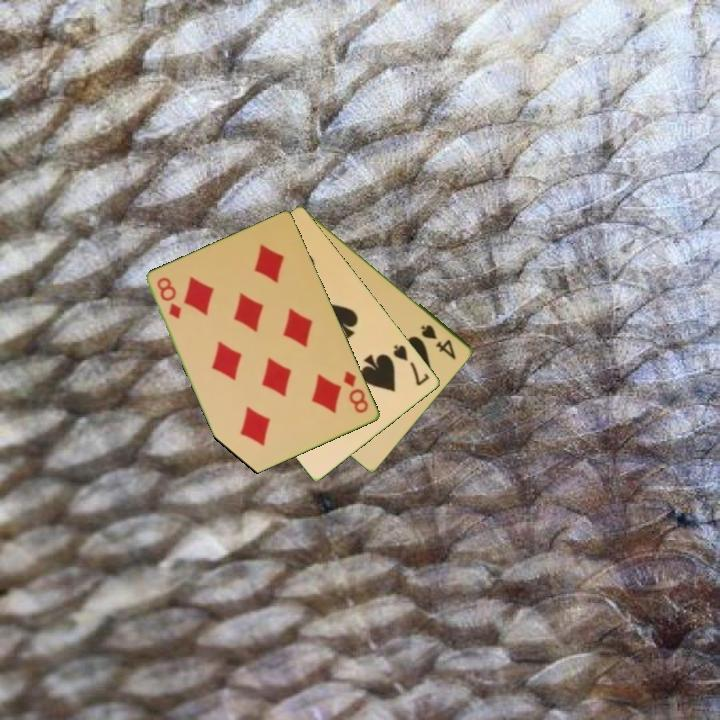4s: (418, 321, 459, 362)
7s: (390, 341, 433, 389)
8d: (340, 367, 372, 416), (154, 274, 185, 322)
